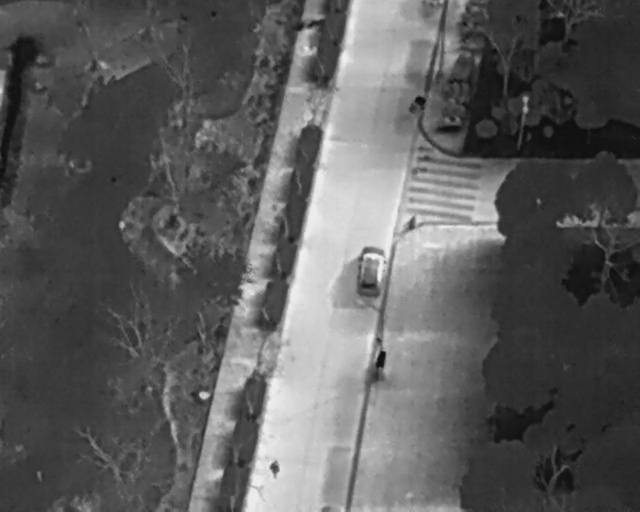Car: (356, 245, 387, 299)
Person: (268, 460, 281, 479)
